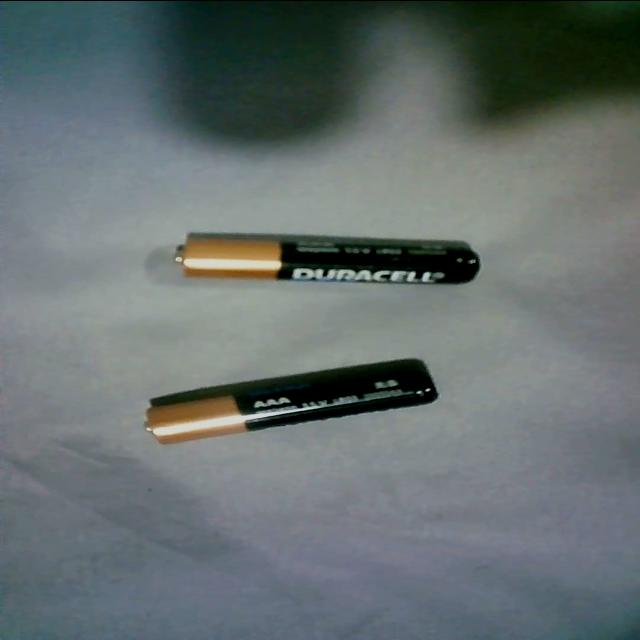AAA: (140, 360, 443, 448), (162, 231, 484, 288)
